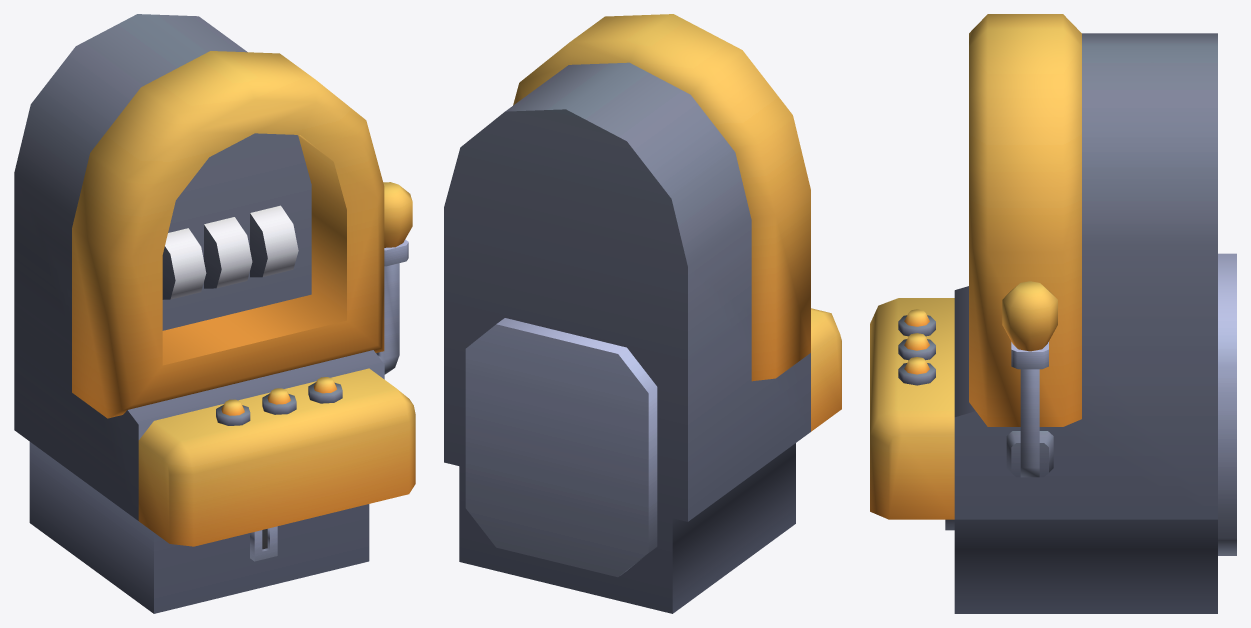
File: arcade.gambling_machine.glb
3 views of the same model, side by side, from view 1: azimuth 30°, elevation 25°; view 2: azimuth 150°, elevation 25°; view 3: azimuth 270°, elevation 25° (orthographic). The views are drawn at different scales.
Visible parts, largest first — view 1: gambling-machine; view 2: gambling-machine; view 3: gambling-machine.
Part boxes in pixels (x1,y1,x2,y2): gambling-machine: (14,14,415,613); gambling-machine: (444,14,841,613); gambling-machine: (870,14,1236,613).
Size of the model in its own units: 1.3 by 1.93 by 1.21.
Materials: 1 (1 with a texture image).
